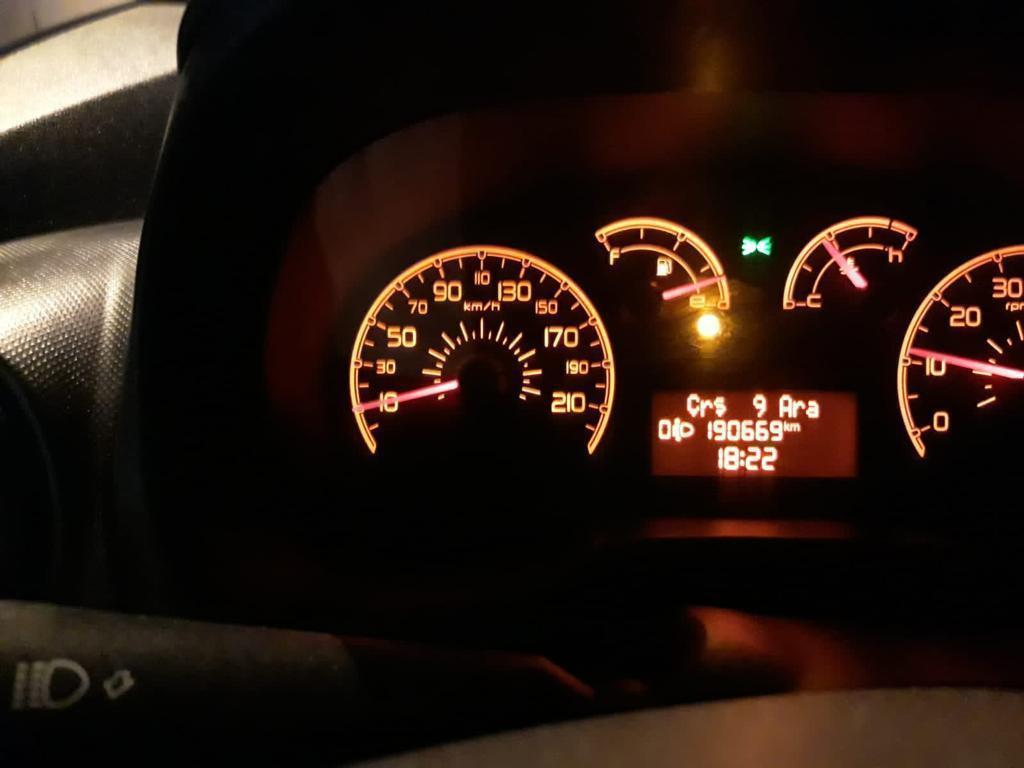0: (726, 418, 740, 441), (658, 418, 671, 440)
1: (717, 445, 723, 470), (707, 420, 712, 442)
2: (762, 445, 777, 470), (746, 445, 760, 470)
6: (740, 419, 754, 441), (755, 419, 768, 441)
8: (723, 444, 739, 471)
9: (752, 392, 769, 417), (769, 419, 783, 441), (713, 418, 726, 441)
X: (778, 393, 792, 418), (686, 393, 699, 418), (713, 395, 727, 417), (792, 397, 806, 417), (807, 399, 819, 418), (700, 398, 712, 417), (789, 422, 801, 433), (739, 447, 745, 467), (783, 419, 789, 432)
odometer: (646, 386, 862, 481)
